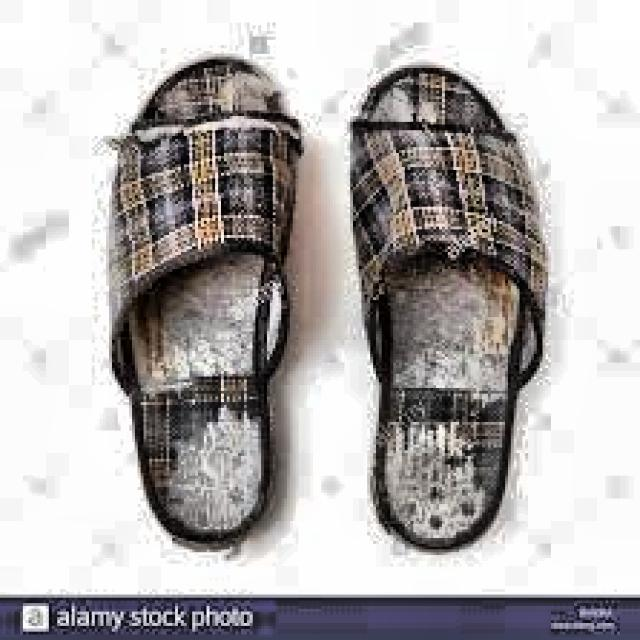shoes: (76, 22, 567, 572)
